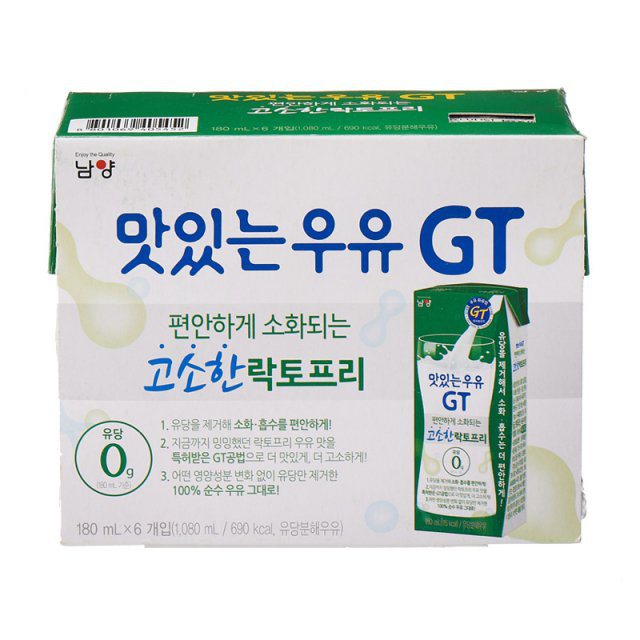milk: (410, 283, 531, 537)
